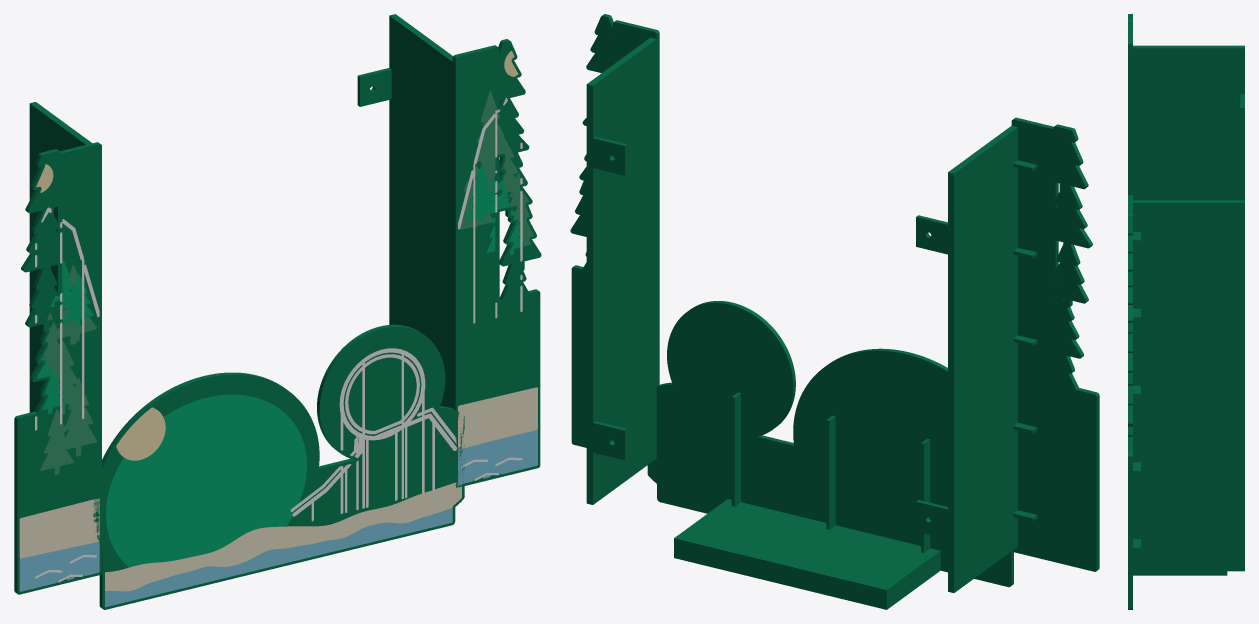
Rendered from parts.glb.
The picture shows the model from 3 angles, left to right: view 1: azimuth 30°, elevation 25°; view 2: azimuth 150°, elevation 25°; view 3: azimuth 270°, elevation 25°; orthographic projection. The views are drawn at different scales.
Parts seen in each view (by area): view 1: wing_right__base, topper__base, topper__green, wing_left__base, topper__sand, topper__white, topper__sea, wing_left__pine, wing_right__sand, wing_left__sand, wing_right__pine, wing_right__sea (+6 smaller); view 2: topper__base, wing_left__base, wing_right__base; view 3: wing_right__base, wing_left__base, topper__base.
Part boxes in pixels (<box>): wing_right__base: <box>357,14,541,487</box>; topper__base: <box>93,324,464,609</box>; topper__green: <box>106,394,306,567</box>; wing_left__base: <box>14,102,101,594</box>; topper__sand: <box>105,481,461,591</box>; topper__white: <box>290,348,460,521</box>; topper__sea: <box>105,508,452,607</box>; wing_left__pine: <box>40,265,97,474</box>; wing_right__sand: <box>458,387,537,449</box>; wing_left__sand: <box>19,498,99,558</box>; wing_right__pine: <box>459,91,533,245</box>; wing_right__sea: <box>458,430,537,484</box>; topper__base: <box>647,301,1020,609</box>; wing_left__base: <box>916,117,1099,592</box>; wing_right__base: <box>570,14,659,504</box>; wing_right__base: <box>1128,195,1244,609</box>; wing_left__base: <box>1128,14,1244,200</box>; topper__base: <box>1133,571,1227,575</box>.
Bounding box in the file's own units: 334 × 286 × 73.
